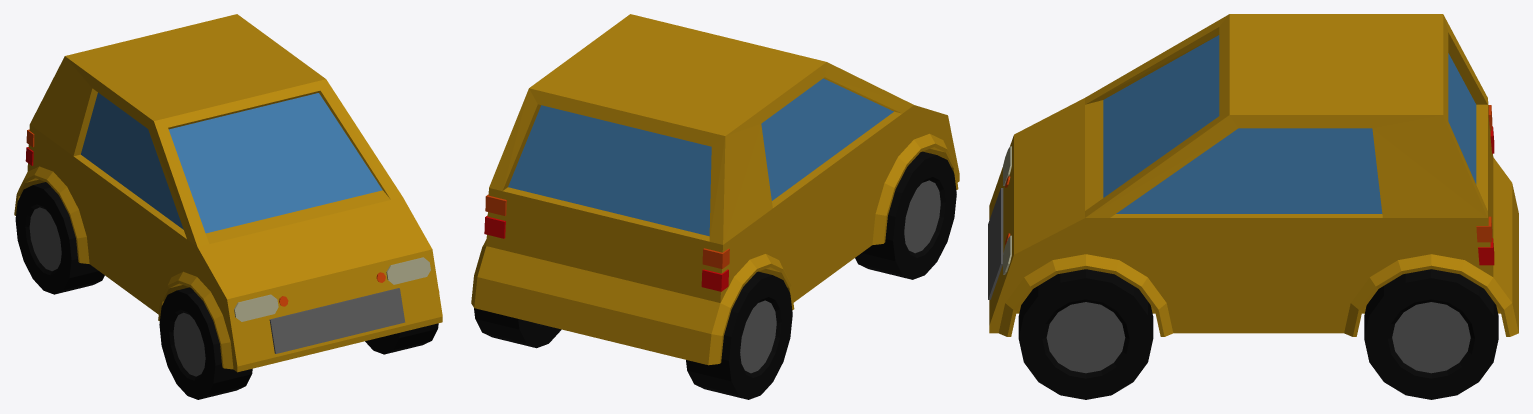
File: car-micro-citrus.obj
The picture shows the model from 3 angles, left to right: view 1: azimuth 30°, elevation 25°; view 2: azimuth 150°, elevation 25°; view 3: azimuth 270°, elevation 25°; orthographic projection. The views are drawn at different scales.
Parts seen in each view (by area): view 1: car-micro-citrus_Cube.590_carmaterial_citrus, car-micro-citrus_Cube.590_windows, car-micro-citrus_Cube.590_tires, car-micro-citrus_Cube.590_metal, car-micro-citrus_Cube.590_lights; view 2: car-micro-citrus_Cube.590_carmaterial_citrus, car-micro-citrus_Cube.590_windows, car-micro-citrus_Cube.590_tires, car-micro-citrus_Cube.590_metal, car-micro-citrus_Cube.590_lights.red, car-micro-citrus_Cube.590_lights.orange; view 3: car-micro-citrus_Cube.590_carmaterial_citrus, car-micro-citrus_Cube.590_windows, car-micro-citrus_Cube.590_tires, car-micro-citrus_Cube.590_metal, car-micro-citrus_Cube.590_lights, car-micro-citrus_Cube.590_lights.orange.
Part boxes in pixels (x1,y1,x2,y2): car-micro-citrus_Cube.590_carmaterial_citrus: (14,14,442,372); car-micro-citrus_Cube.590_windows: (81,92,382,233); car-micro-citrus_Cube.590_tires: (15,182,438,399); car-micro-citrus_Cube.590_metal: (29,207,405,376); car-micro-citrus_Cube.590_lights: (234,257,430,321); car-micro-citrus_Cube.590_carmaterial_citrus: (471,14,959,365); car-micro-citrus_Cube.590_windows: (508,78,893,236); car-micro-citrus_Cube.590_tires: (474,151,956,399); car-micro-citrus_Cube.590_metal: (740,180,940,373); car-micro-citrus_Cube.590_lights.red: (484,215,728,291); car-micro-citrus_Cube.590_lights.orange: (485,194,729,268); car-micro-citrus_Cube.590_carmaterial_citrus: (989,14,1518,336); car-micro-citrus_Cube.590_windows: (1103,35,1476,213); car-micro-citrus_Cube.590_tires: (1018,269,1498,399); car-micro-citrus_Cube.590_metal: (988,188,1470,373); car-micro-citrus_Cube.590_lights: (1003,146,1011,274); car-micro-citrus_Cube.590_lights.orange: (1005,105,1492,244).
Size of the model in its own units: 0.834 by 0.7965 by 1.42.
